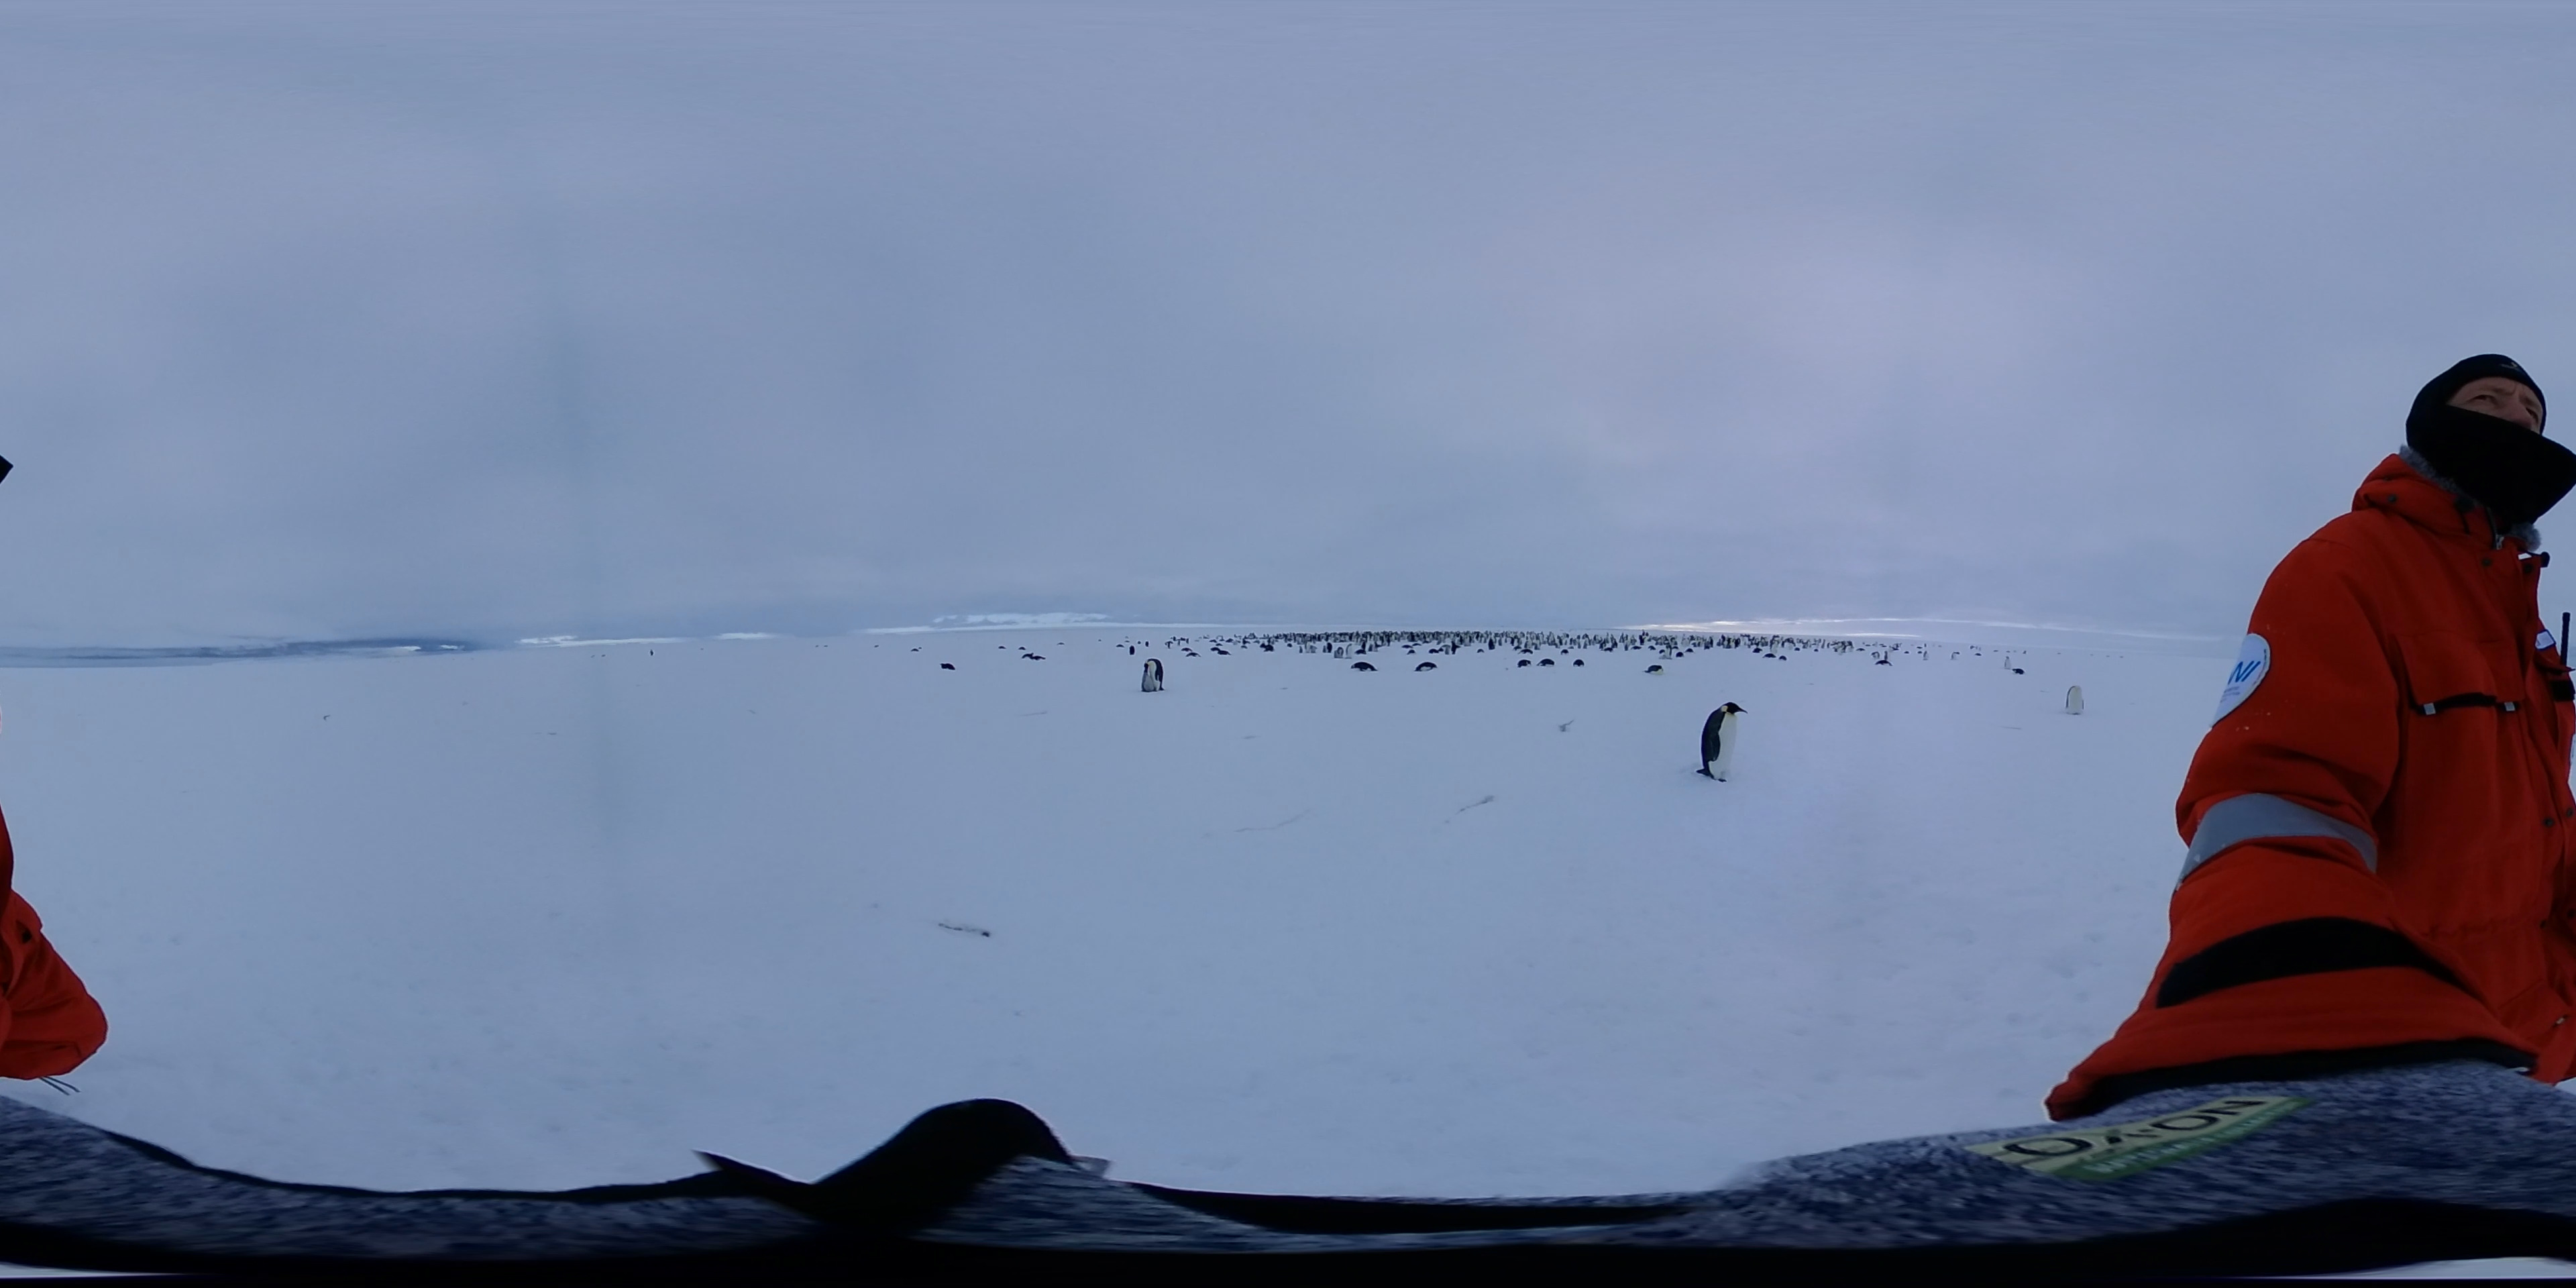adult_standing_penguin: (1690, 697, 1750, 789), (2062, 683, 2088, 718), (1142, 657, 1165, 692)
adult_toboggan_penguin: (1347, 659, 1378, 674), (1410, 660, 1437, 675), (1641, 662, 1663, 675), (936, 660, 959, 672), (1536, 657, 1557, 667), (1516, 659, 1534, 670), (1571, 657, 1589, 665)
juvenile_penguin: (1137, 670, 1158, 695)
researcher: (2098, 335, 2576, 1193)
